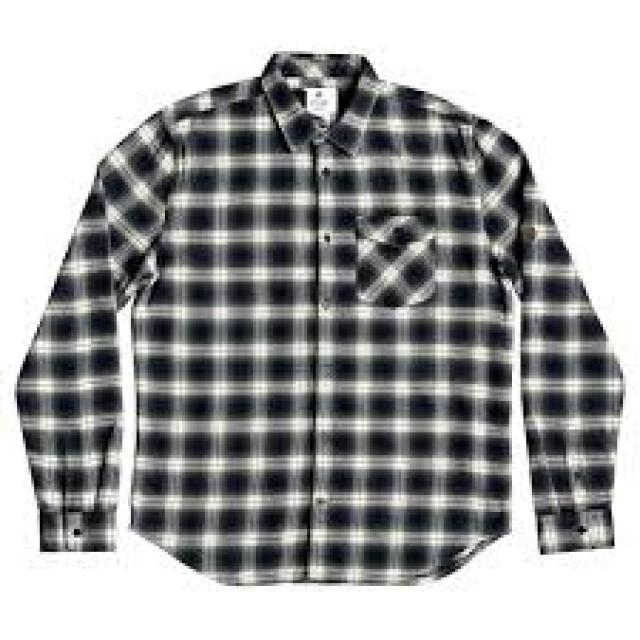plaid: (15, 52, 627, 592)
